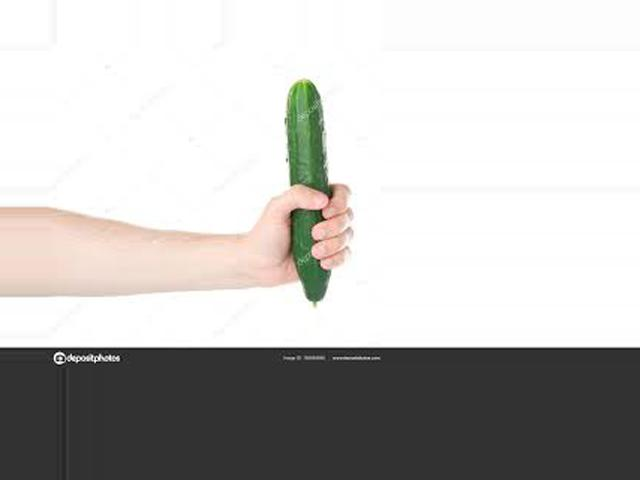cucumber: (286, 80, 331, 306)
